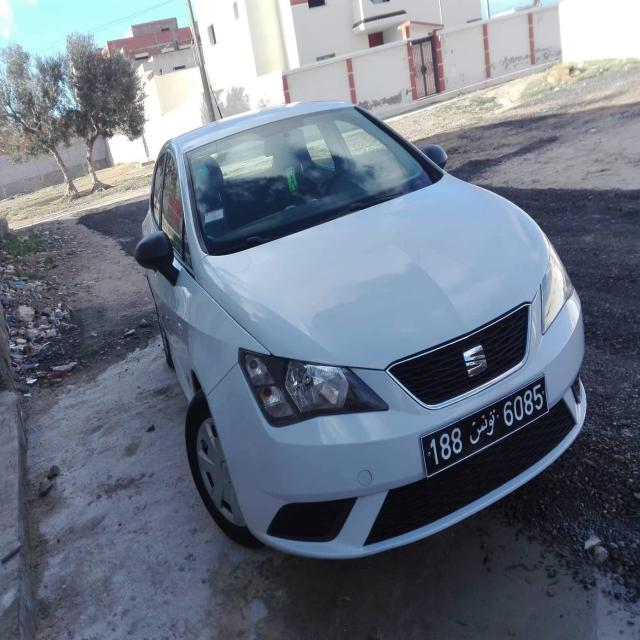LP: (417, 373, 548, 472)
